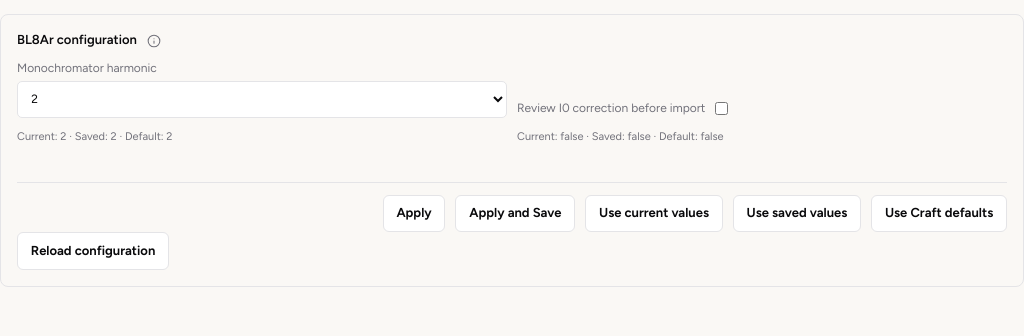
Test case: submits numeric harmonic choices and the BL8Ar review checkbox with their original types
This screenshot has width=1024, height=336.
Select "3" in the dropdown labelled "Monochromator harmonic" at (262, 99), box [17,81,507,118]
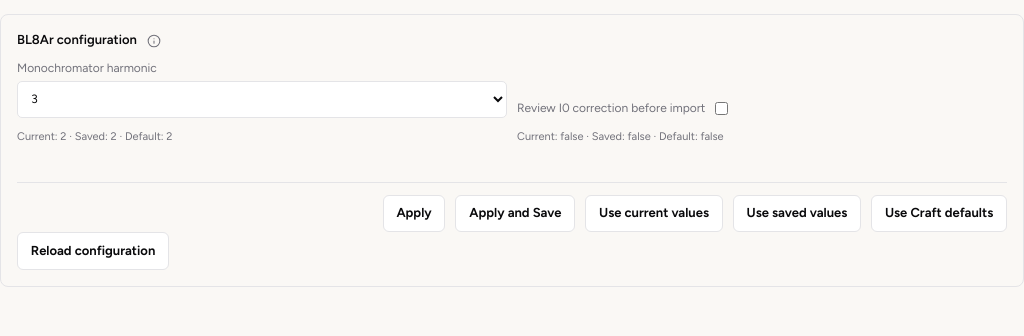
Click the checkbox labelled "Review I0 correction before import" at (722, 109), box [715,102,728,115]
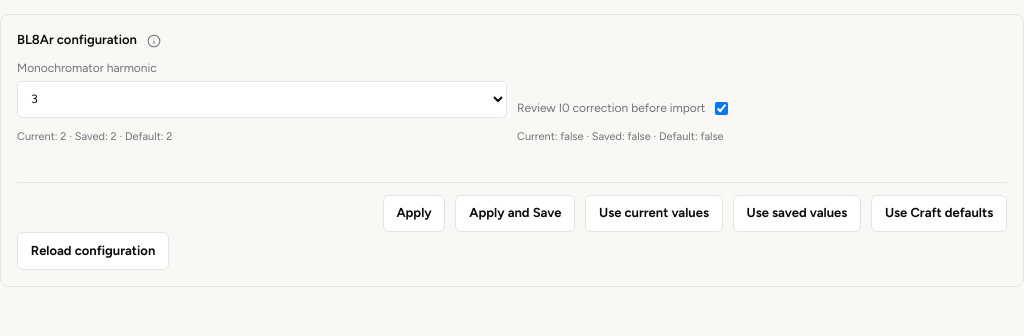
Click the button "Apply and Save" at (515, 214), box [456,195,575,232]
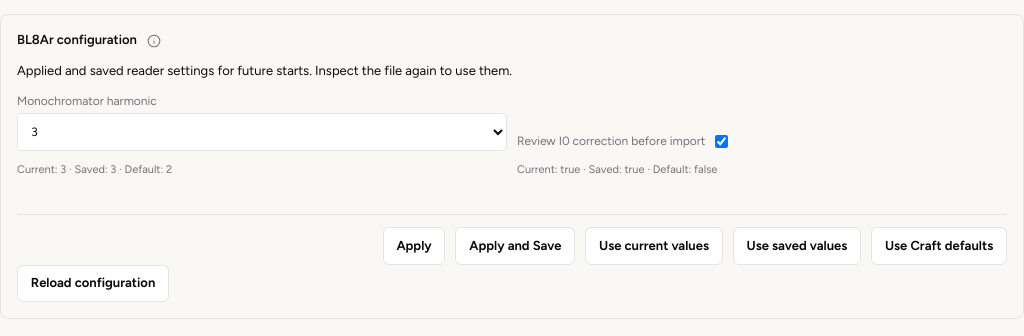
Now the text "Applied and saved reader settings" is shown, box [17,63,512,78]
